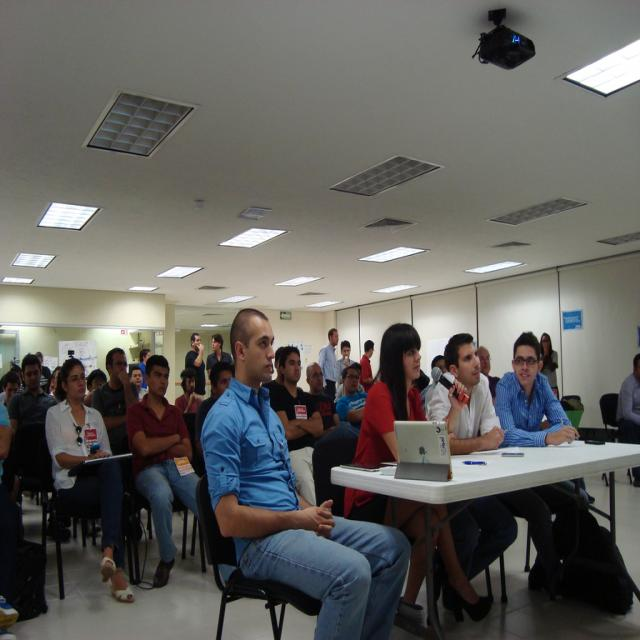chair: (194, 476, 317, 640), (599, 393, 620, 442)
desk: (312, 389, 634, 636)
laptop: (393, 420, 453, 482)
person: (201, 313, 411, 640), (493, 333, 581, 600), (45, 360, 132, 605), (126, 352, 200, 590), (426, 333, 505, 454), (266, 343, 324, 505), (617, 352, 640, 486), (334, 363, 368, 424), (318, 328, 342, 402), (540, 332, 560, 398)
